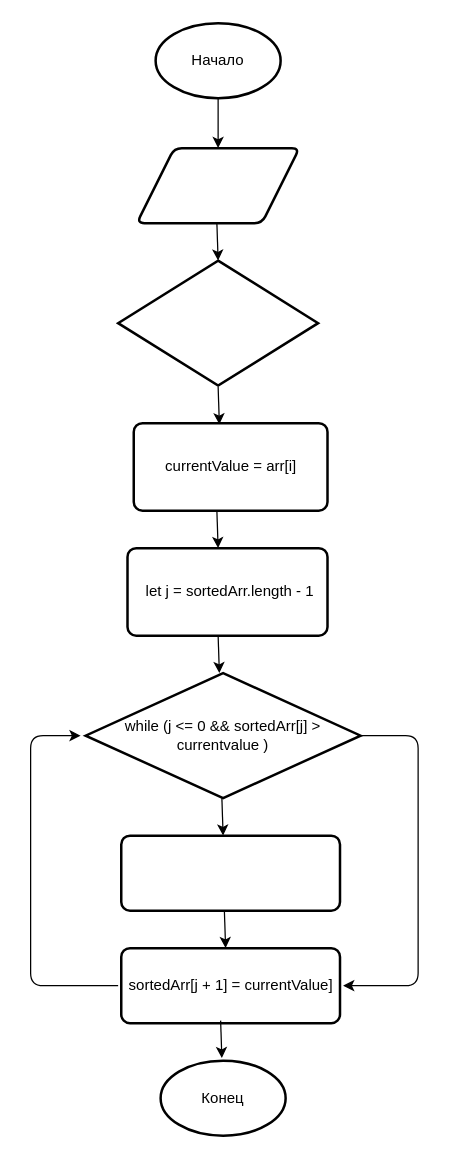
The diagram is 450 pixels wide and 1158 high, and some of its shapes have lost their labels. Each missing label, with the centre of its shape:
"for(let i = 0)" belongs at pixel 217 322.
"sortedArr = []" belongs at pixel 217 185.
"sortedArr[j + 1] = sortedArr[j]" belongs at pixel 230 872.
